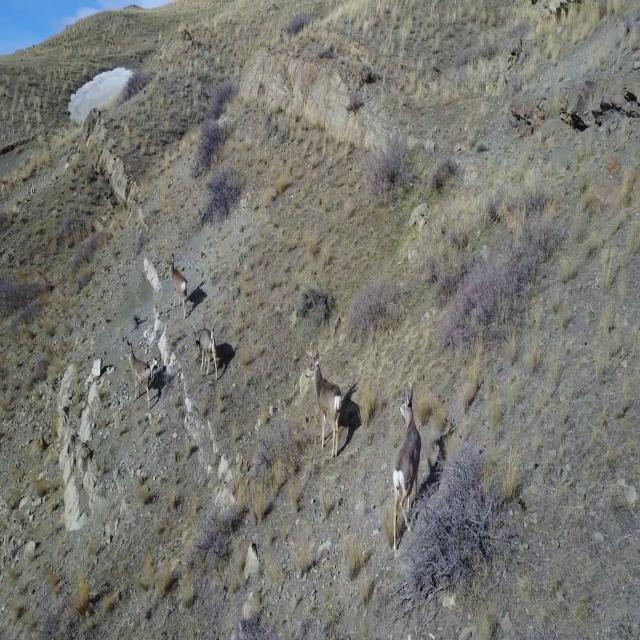Deer: (386, 375, 425, 549), (305, 342, 344, 459), (121, 337, 153, 412), (190, 319, 220, 379), (164, 254, 190, 316)
